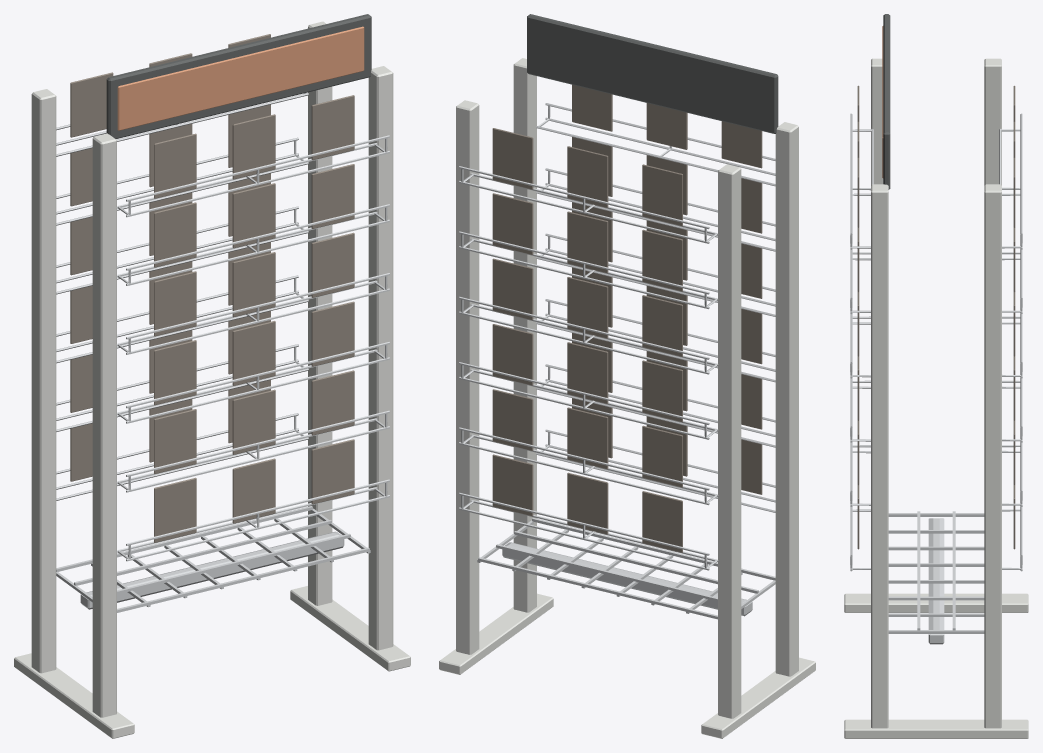
Rendered from garden-centre-and-florist-seed-packet-rack-e8e69eb6__17742.glb.
3 renders of one model, left to right at view 1: azimuth 30°, elevation 25°; view 2: azimuth 150°, elevation 25°; view 3: azimuth 270°, elevation 25°, orthographic. The views are drawn at different scales.
Parts seen in each view (by area): view 1: seed-packet-rack; view 2: seed-packet-rack; view 3: seed-packet-rack.
Part boxes in pixels (x1,y1,x2,y2): seed-packet-rack: (14,14,410,738); seed-packet-rack: (439,14,815,738); seed-packet-rack: (844,14,1028,738).
Bounding box in the file's own units: 0.9101 × 1.86 × 0.5199.
